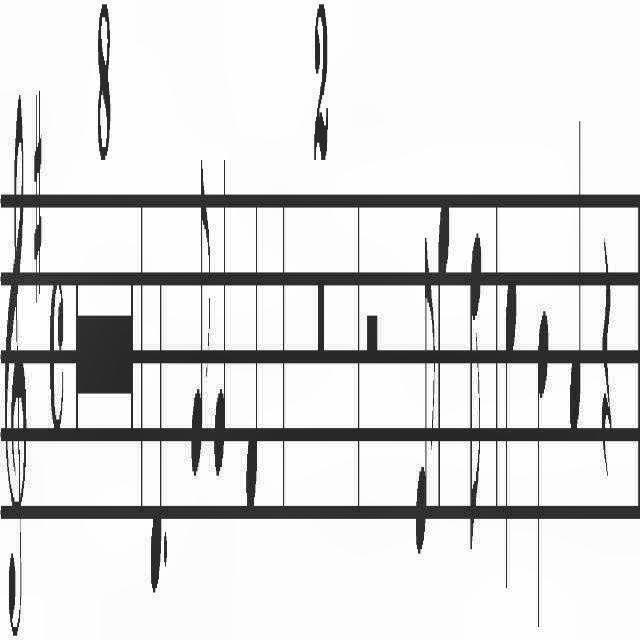Bass-clef: (3, 87, 27, 638)
Diez: (34, 80, 42, 300)
Eighth-note: (189, 145, 211, 488), (414, 240, 436, 560), (470, 228, 482, 562)
Quarter-note: (536, 294, 550, 634), (569, 110, 583, 450), (437, 184, 451, 522), (213, 150, 227, 484), (245, 187, 259, 519), (504, 262, 516, 598), (150, 272, 162, 602)
Quarter-rest: (600, 237, 614, 479)
